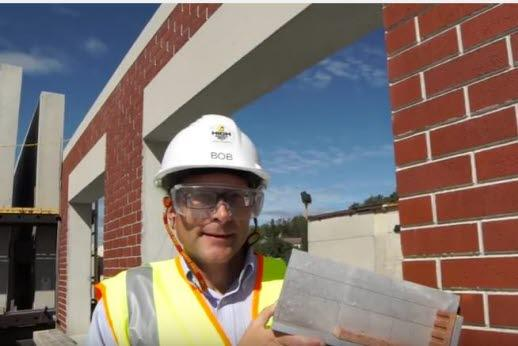helmet: (157, 115, 270, 188)
